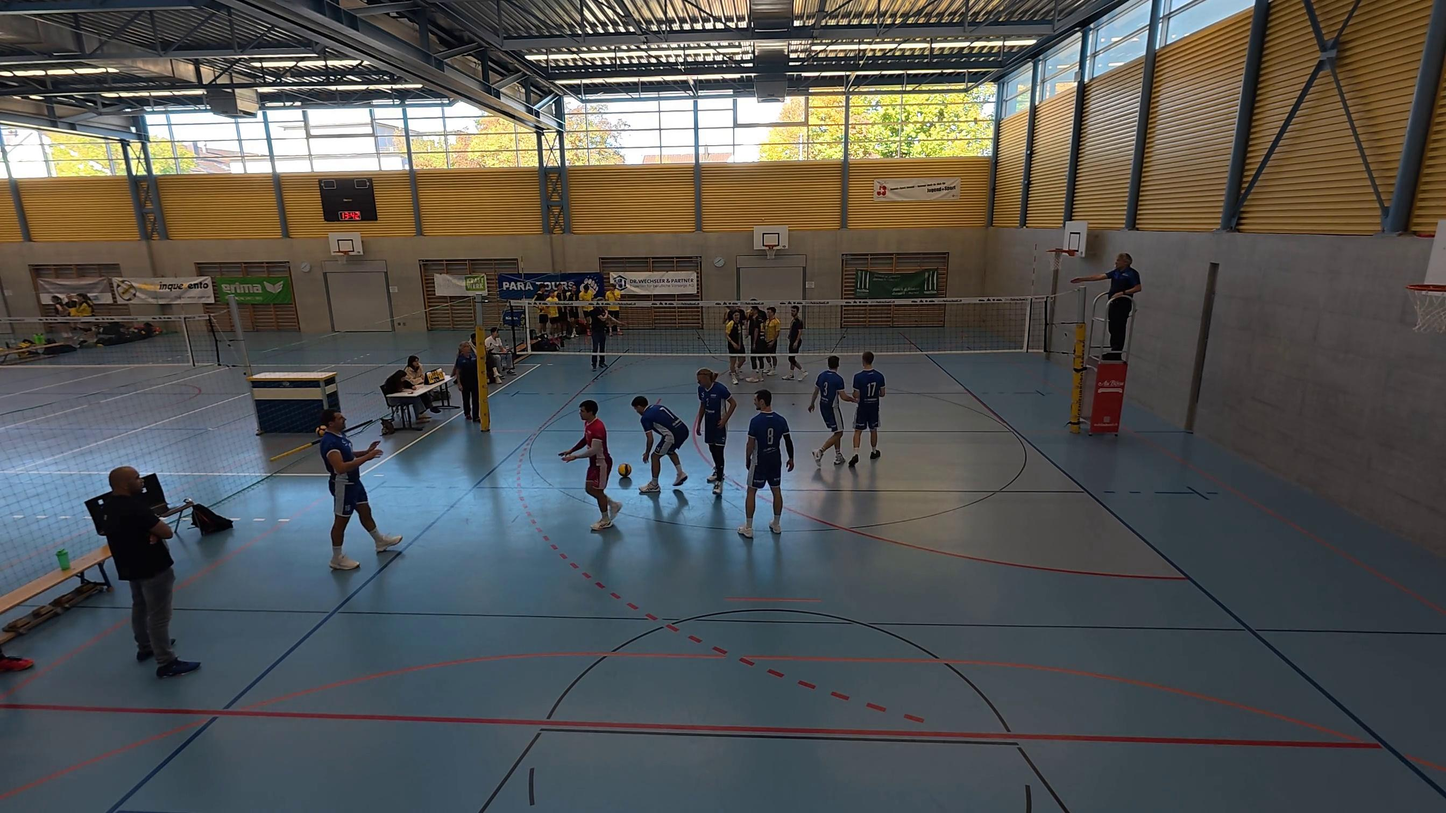Player: (316, 409, 401, 570), (557, 394, 625, 542), (738, 390, 793, 538), (632, 395, 693, 497), (693, 367, 736, 484), (843, 351, 885, 468), (810, 355, 852, 465), (719, 293, 749, 371), (722, 305, 748, 384), (781, 303, 805, 380), (745, 297, 766, 374), (762, 303, 782, 380)
ball: (617, 461, 633, 479)
